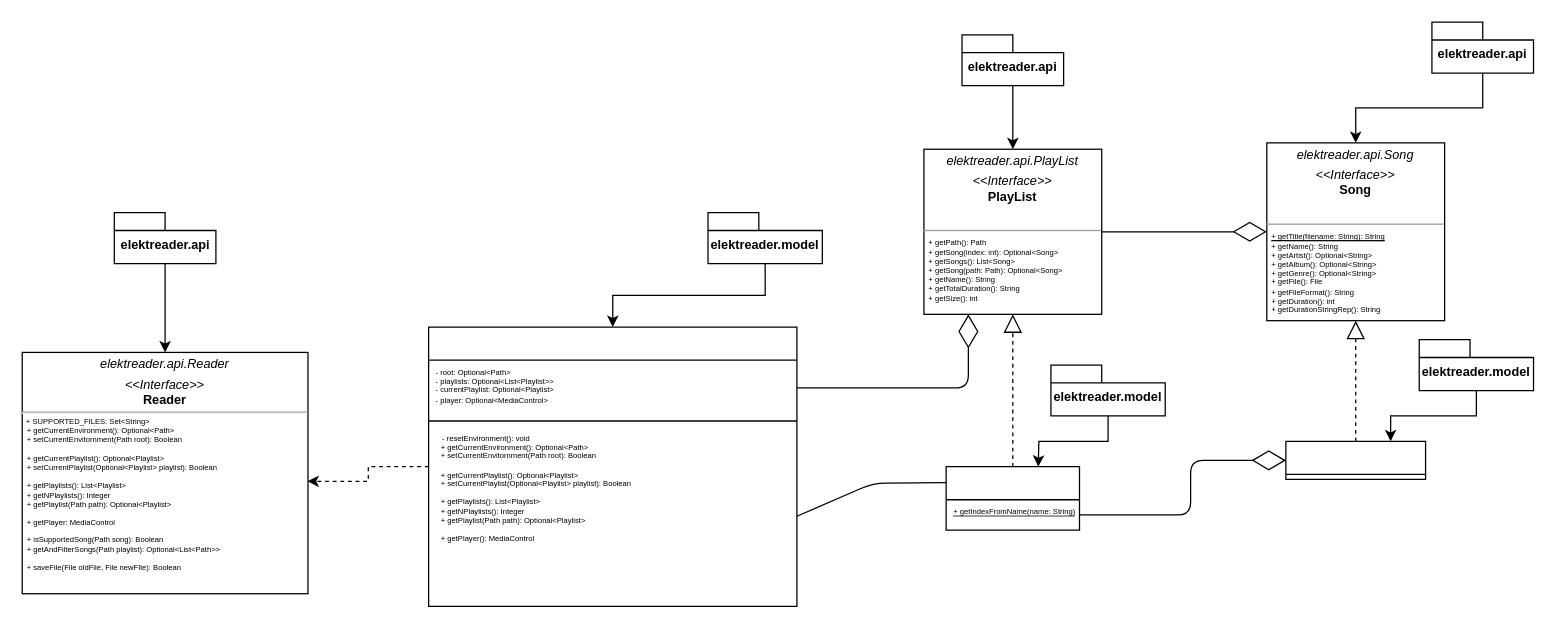
The diagram is 1556 pixels wide and 632 high, and some of its shapes have lost their labels. The box of each missing label's shape, as (x1, y1, x2, y2) in pixels:
Mp3PlayList: (945, 465, 1080, 530)
Mp3Song: (1285, 440, 1426, 479)
ReaderImpl: (427, 326, 797, 606)
